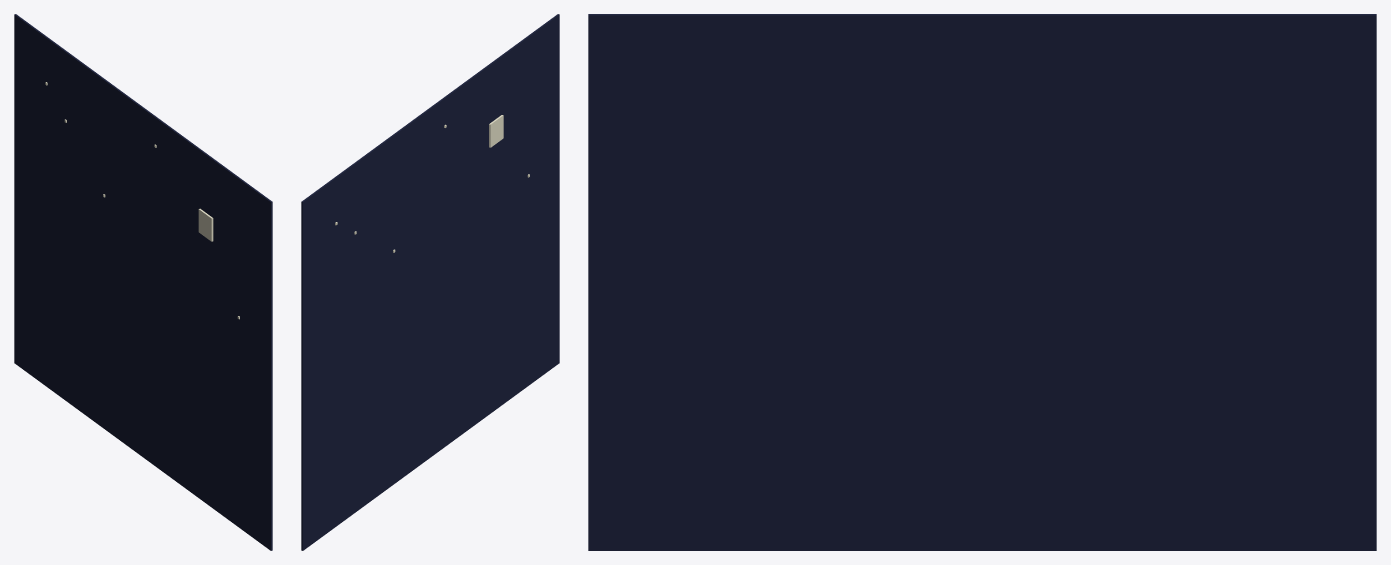
The model's file is night_backdrop.glb.
The picture shows the model from 3 angles, left to right: view 1: azimuth 30°, elevation 25°; view 2: azimuth 150°, elevation 25°; view 3: azimuth 270°, elevation 25°; orthographic projection. The views are drawn at different scales.
Visible parts, largest first — view 1: night_backdrop; view 2: night_backdrop; view 3: night_backdrop.
Boxes of the visible parts, x1=… form: night_backdrop: x1=14, y1=14, x2=272, y2=550; night_backdrop: x1=301, y1=14, x2=559, y2=550; night_backdrop: x1=588, y1=14, x2=1376, y2=550.
Bounding box in the file's own units: 0.03 × 3 × 4.
1 material, 1 textured.
